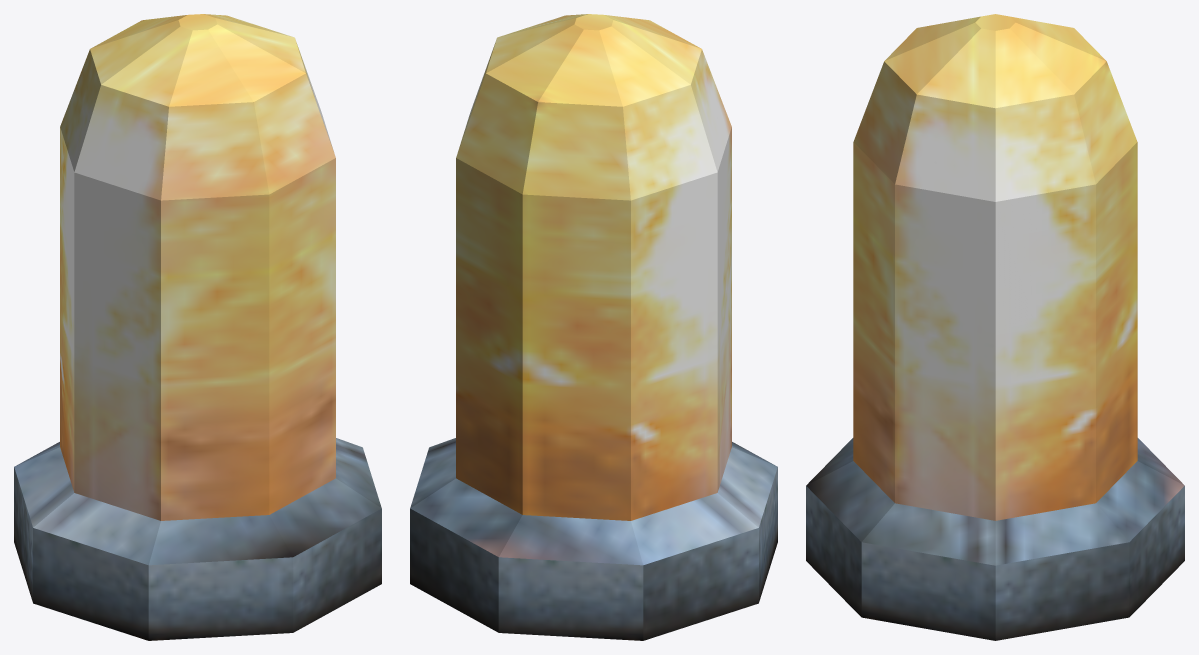
Rendered from BunkerLamp.fbx.
3 renders of one model, left to right at view 1: azimuth 30°, elevation 25°; view 2: azimuth 150°, elevation 25°; view 3: azimuth 270°, elevation 25°, orthographic.
Parts seen in each view (by area): view 1: Cylinder.001; view 2: Cylinder.001; view 3: Cylinder.001.
Part boxes in pixels (x1=…): Cylinder.001: x1=14, y1=14, x2=381, y2=640; Cylinder.001: x1=410, y1=14, x2=777, y2=640; Cylinder.001: x1=806, y1=14, x2=1184, y2=640.
Bounding box in the file's own units: 60.9 × 95.5 × 60.9.
